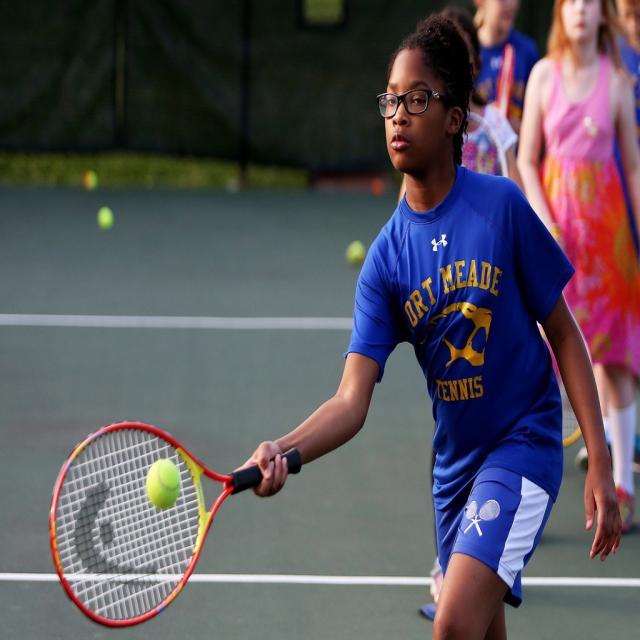Tennis ball: (144, 458, 180, 510), (348, 242, 364, 269), (96, 208, 113, 228), (86, 170, 98, 198)
